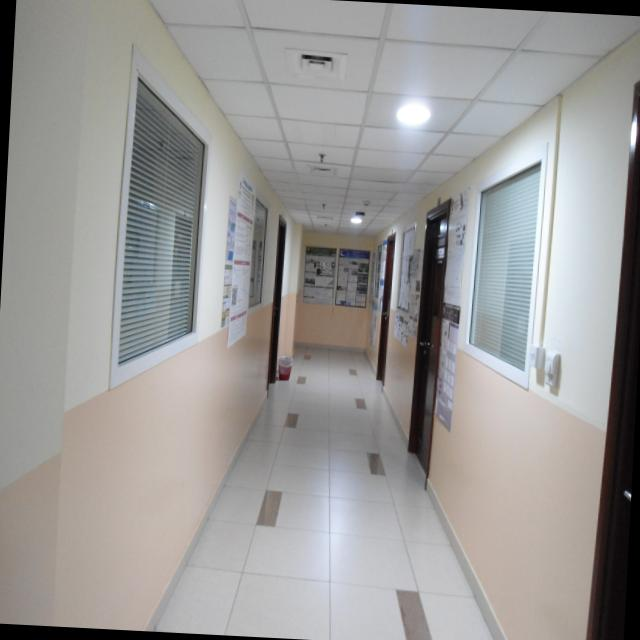board: (438, 200, 472, 446), (218, 168, 262, 342), (301, 240, 379, 308), (394, 217, 426, 343)
door: (602, 65, 640, 640), (411, 203, 451, 473), (264, 214, 290, 388), (376, 228, 400, 392)
dustbin: (278, 356, 296, 390)
window: (102, 51, 216, 378), (468, 174, 546, 360)
